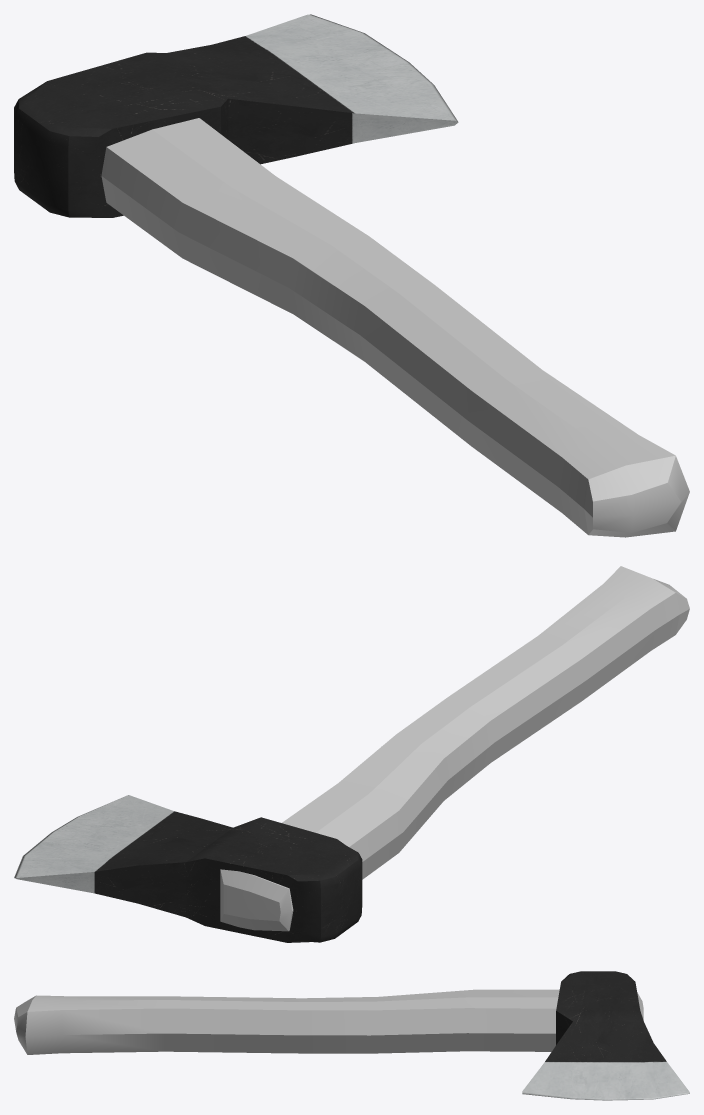
The model's file is Machado.fbx.
3 views of the same model, one above another, from view 1: azimuth 30°, elevation 25°; view 2: azimuth 150°, elevation 25°; view 3: azimuth 270°, elevation 25° (orthographic). The views are drawn at different scales.
Parts seen in each view (by area): view 1: group2_polySurface3; view 2: group2_polySurface3; view 3: group2_polySurface3.
Part boxes in pixels (x1,y1,x2,y2): group2_polySurface3: [14, 14, 689, 537]; group2_polySurface3: [14, 566, 689, 942]; group2_polySurface3: [14, 971, 689, 1100].
Size of the model in its own units: 9.72 by 2.15 by 25.91.
